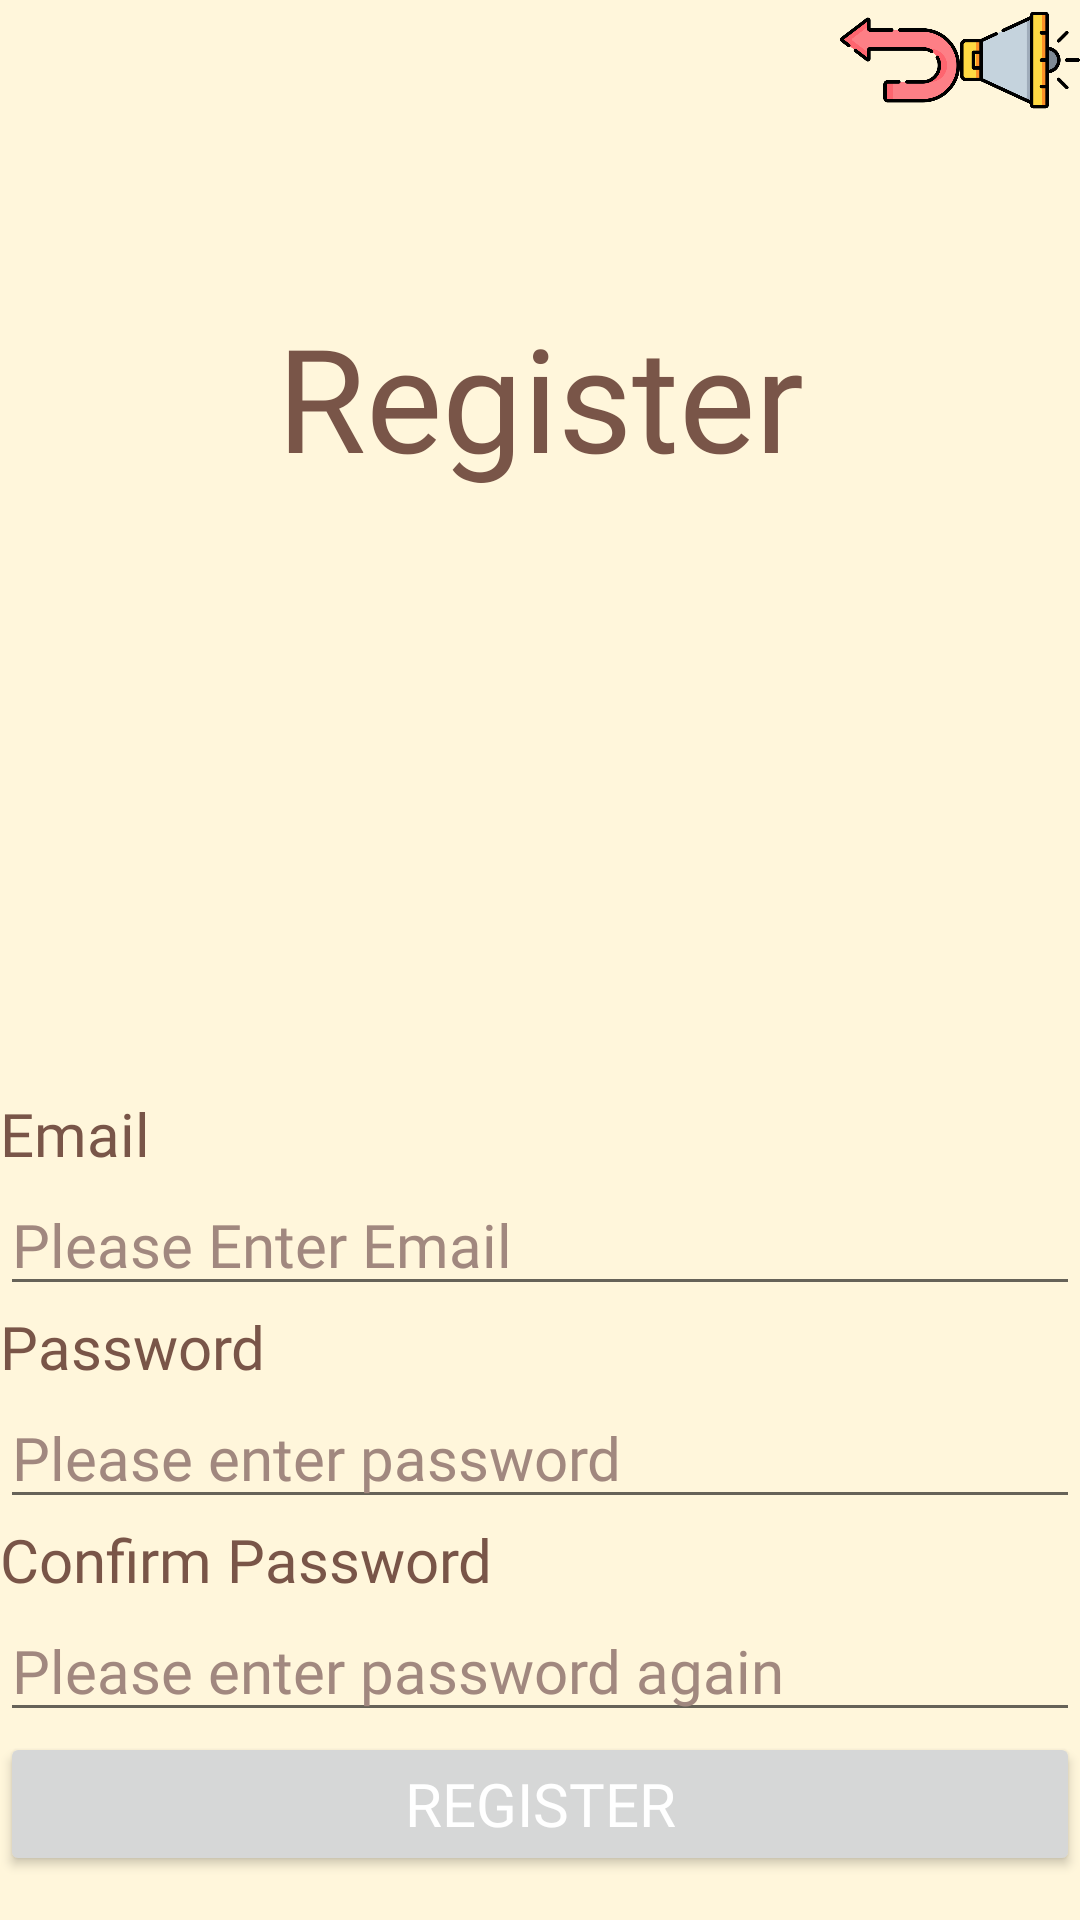

Screen size 1080px x 1920px. Icon name, then its box in pixels as (x1, y1, x2, y2):
back: (840, 17, 960, 103)
Stop Music Play: (960, 12, 1080, 109)
